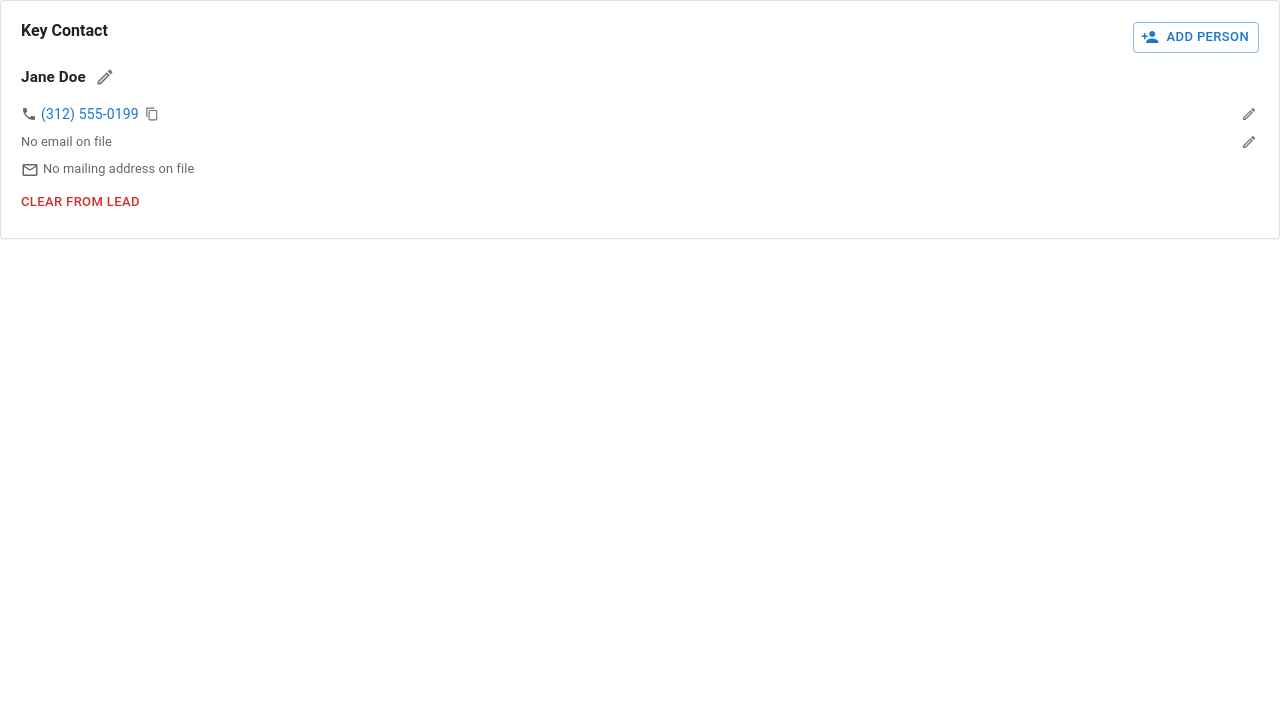
it: KeyContactCard › rejects invalid inline phone values before saving
The width and height of the screenshot is (1280, 720).
Click the button with test id "key-contact-phone-edit" at (1249, 114), box [1239,104,1259,124]
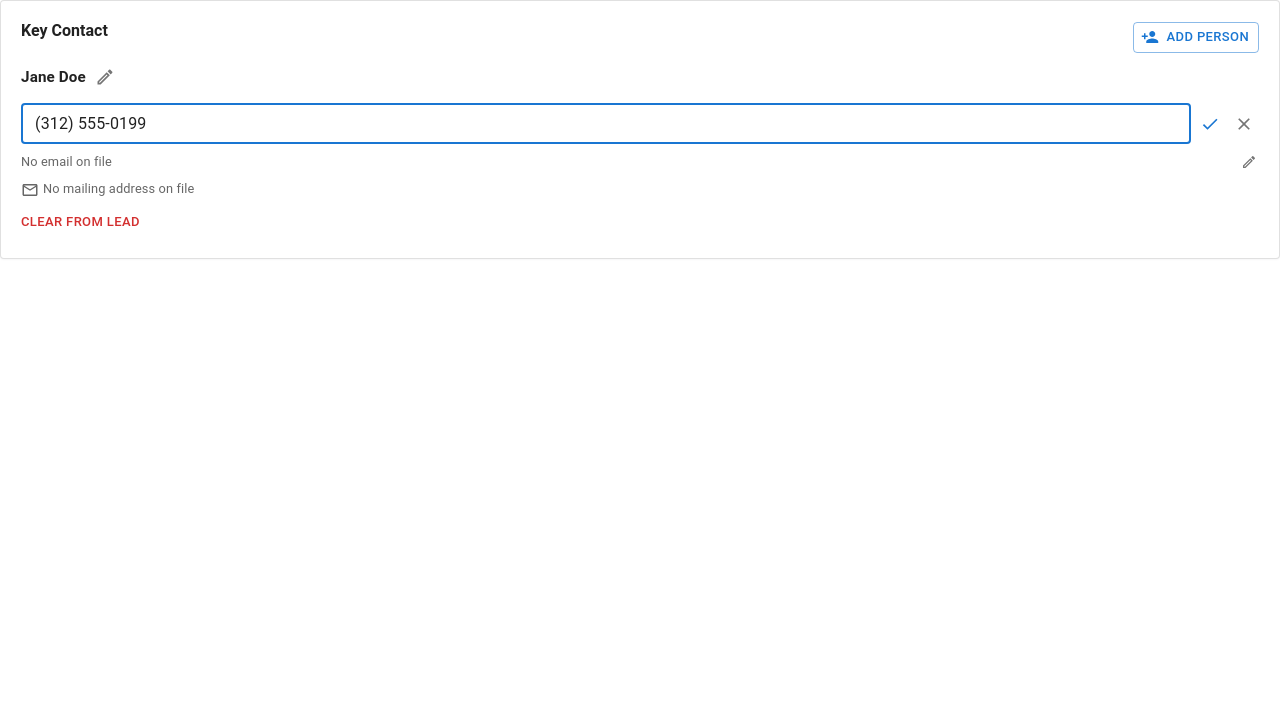
Replace the text in the field with test id "key-contact-phone-edit-input" with "not a phone" at (606, 124), box [21,104,1191,144]
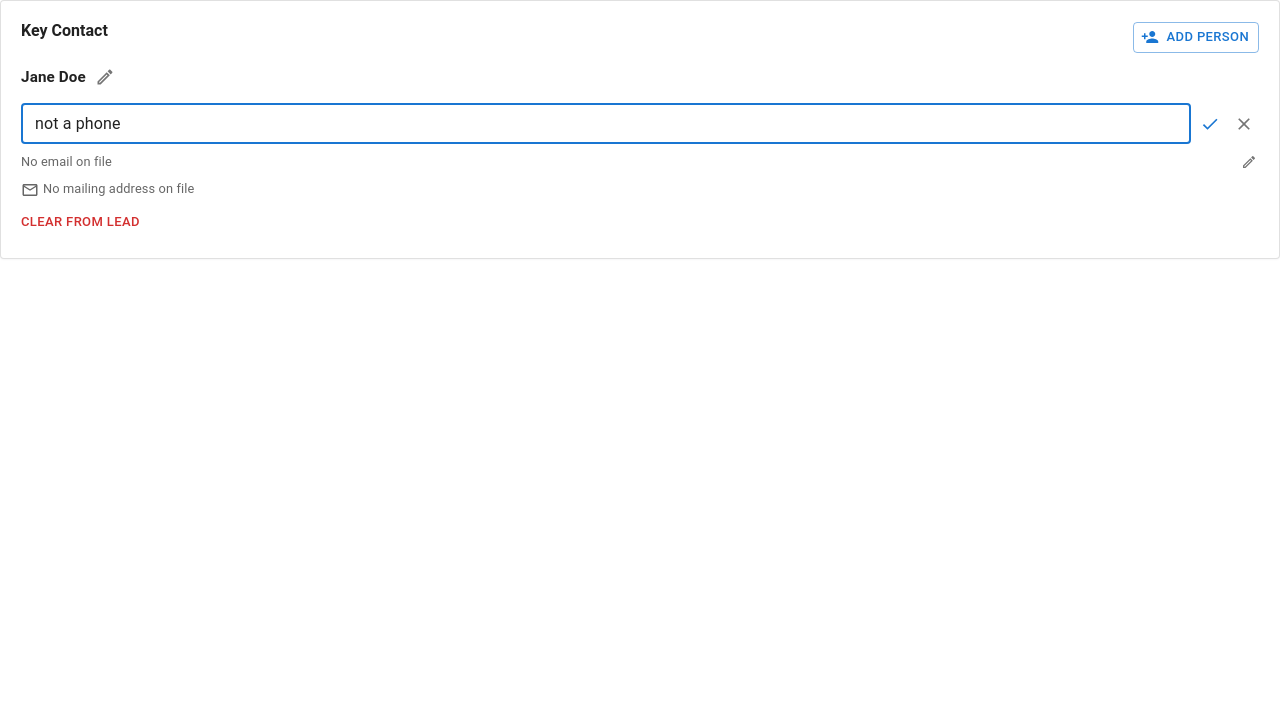
Click the button named "Save phone" at (1210, 124), box [1195,109,1225,139]
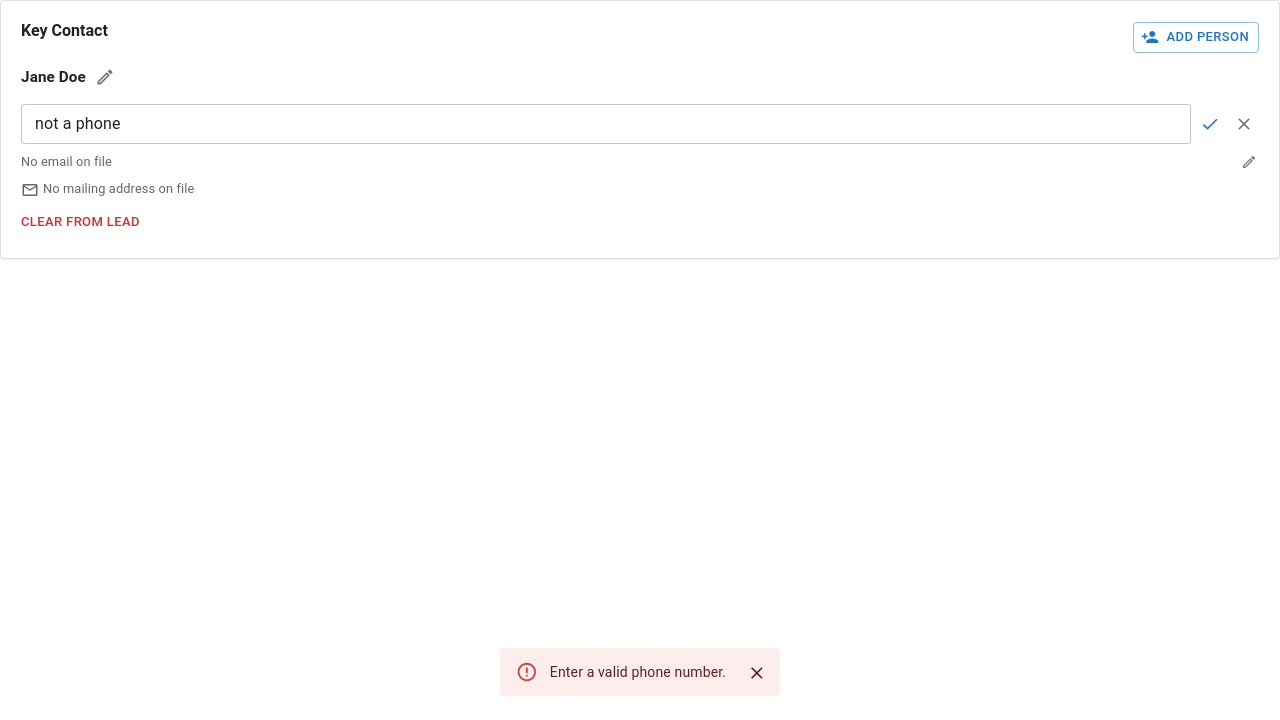
Expected: the text "Enter a valid phone number." is shown, [550,664,726,680]
